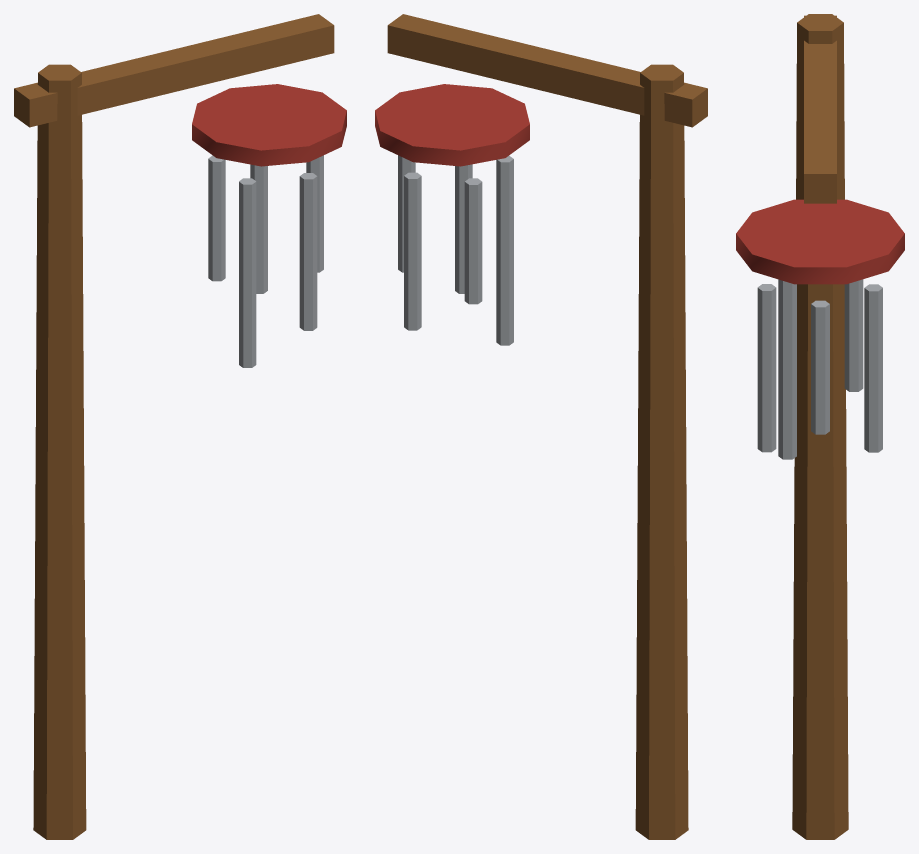
Rendered from wind_chime.glb.
3 views of the same model, side by side, from view 1: azimuth 30°, elevation 25°; view 2: azimuth 150°, elevation 25°; view 3: azimuth 270°, elevation 25° (orthographic). The views are drawn at different scales.
Parts seen in each view (by area): view 1: decor-wind_chime; view 2: decor-wind_chime; view 3: decor-wind_chime.
Part boxes in pixels (left/top/right/bottom): decor-wind_chime: left=14, top=14, right=346, bottom=839; decor-wind_chime: left=375, top=14, right=707, bottom=839; decor-wind_chime: left=736, top=14, right=904, bottom=839.
Bounding box in the file's own units: 0.8211 × 1.9 × 0.36.
